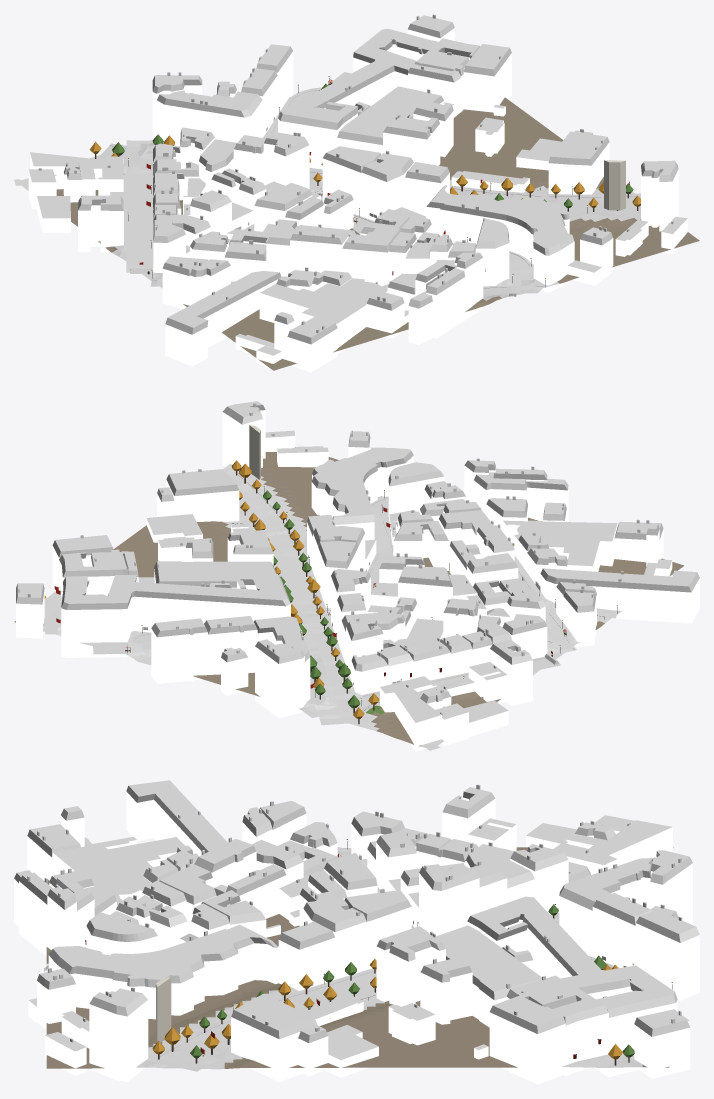
File: zone_H6.glb
3 renders of one model, top to bottom at view 1: azimuth 30°, elevation 25°; view 2: azimuth 150°, elevation 25°; view 3: azimuth 270°, elevation 25°, orthographic. The views are drawn at different scales.
Parts seen in each view (by area): view 1: zone_H6_batiments, zone_H6_terrain, zone_H6_sol_NOCOL, zone_H6_decor_NOCOL; view 2: zone_H6_batiments, zone_H6_sol_NOCOL, zone_H6_terrain, zone_H6_decor_NOCOL; view 3: zone_H6_batiments, zone_H6_terrain, zone_H6_sol_NOCOL, zone_H6_decor_NOCOL.
Part boxes in pixels (x1,y1,x2,y2): zone_H6_batiments: [28, 14, 687, 372]; zone_H6_terrain: [20, 84, 699, 370]; zone_H6_sol_NOCOL: [14, 72, 640, 294]; zone_H6_decor_NOCOL: [89, 76, 640, 287]; zone_H6_batiments: [16, 401, 699, 751]; zone_H6_sol_NOCOL: [44, 471, 616, 750]; zone_H6_terrain: [14, 447, 684, 748]; zone_H6_decor_NOCOL: [44, 460, 617, 724]; zone_H6_batiments: [14, 780, 699, 1084]; zone_H6_terrain: [46, 847, 669, 1069]; zone_H6_sol_NOCOL: [147, 847, 689, 1071]; zone_H6_decor_NOCOL: [152, 839, 672, 1065].
Size of the model in its own units: 235 by 40.93 by 231.
